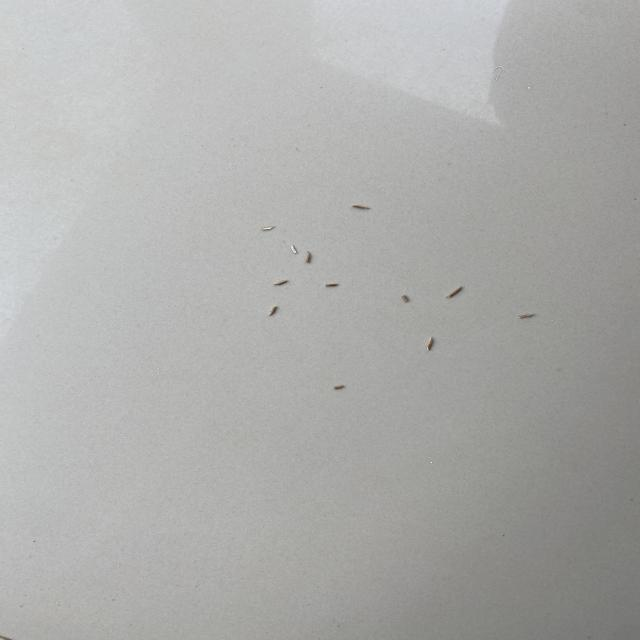Wereng: (440, 286, 471, 302), (266, 304, 292, 321), (420, 332, 438, 355), (345, 200, 375, 213), (512, 312, 543, 324), (331, 383, 356, 397), (398, 291, 419, 306), (323, 280, 347, 291), (270, 278, 292, 290), (304, 248, 320, 264), (284, 242, 300, 256), (257, 224, 278, 232)
